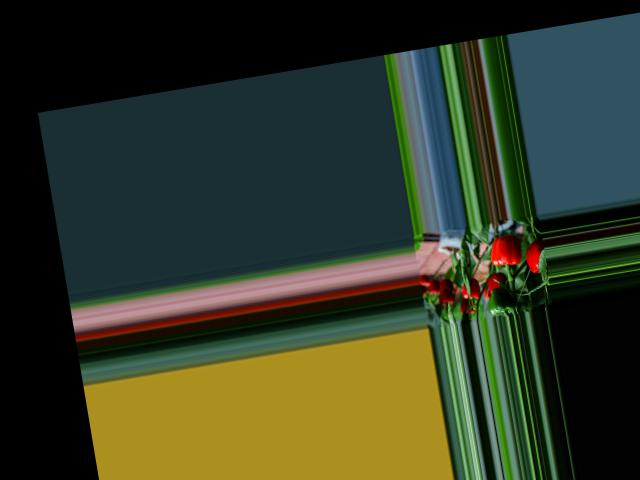bell_pepper: (457, 272, 482, 306)
